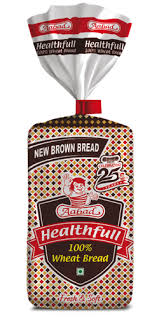bread: (11, 8, 135, 308)
